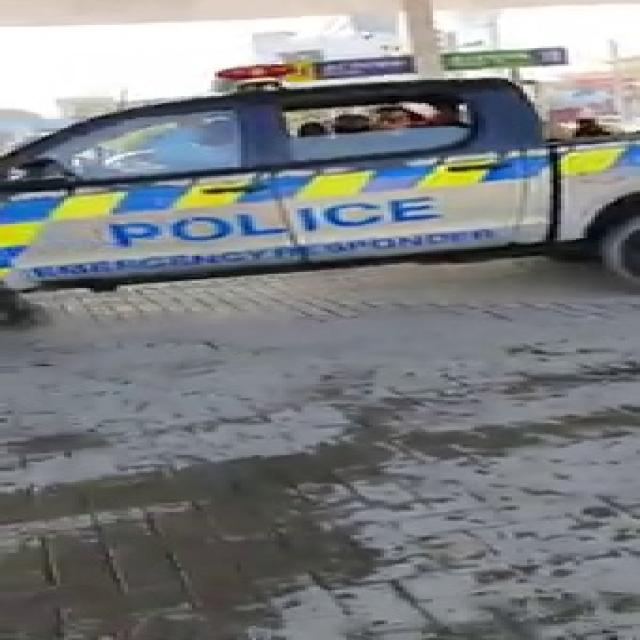police: (0, 17, 640, 272)
